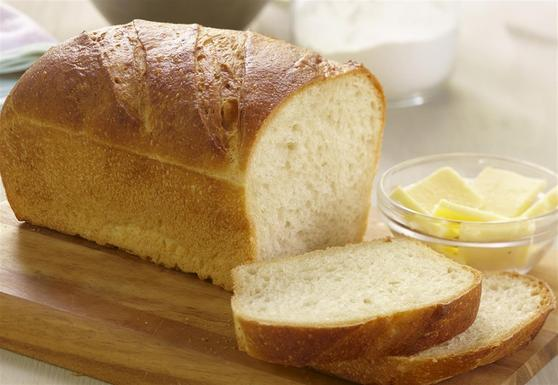white_bread: (3, 13, 383, 298)
